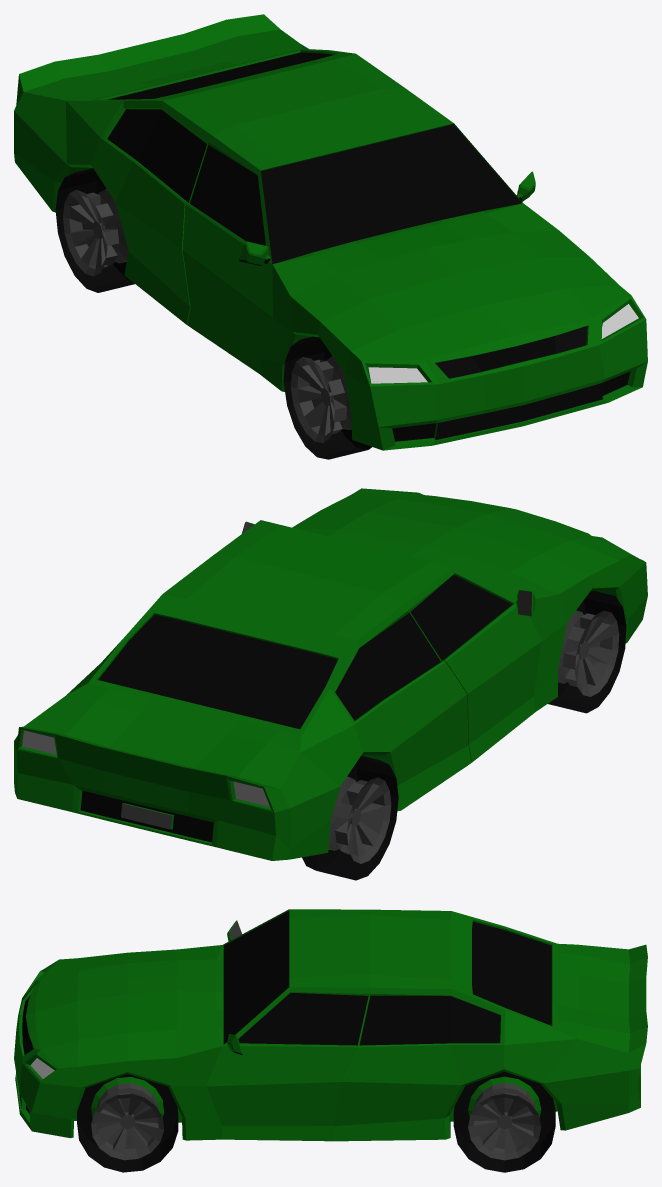
File: car_1_green.obj
The picture shows the model from 3 angles, top to bottom: view 1: azimuth 30°, elevation 25°; view 2: azimuth 150°, elevation 25°; view 3: azimuth 270°, elevation 25°; orthographic projection. The views are drawn at different scales.
Parts seen in each view (by area): view 1: Cube; view 2: Cube; view 3: Cube.
Boxes of the visible parts, x1,y1,x2,y2 form: Cube: (14, 14, 647, 459); Cube: (14, 488, 647, 880); Cube: (14, 909, 647, 1172).
Size of the model in its own units: 1.63 by 1.1 by 3.68.
